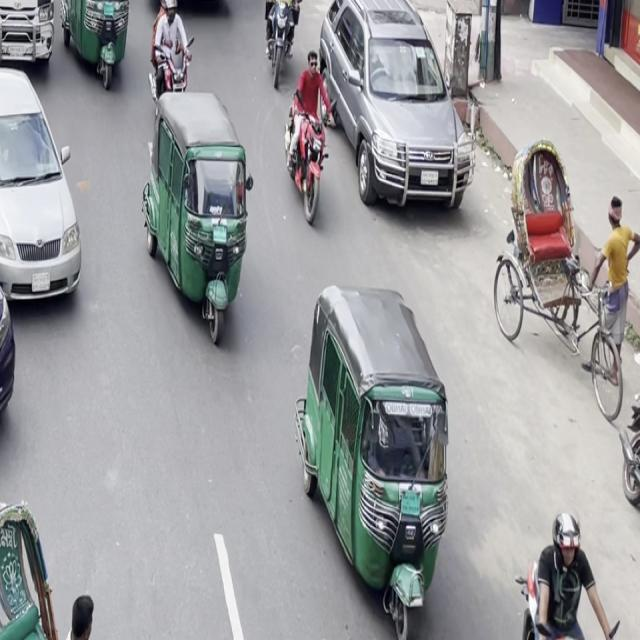car: (314, 0, 479, 227), (0, 49, 94, 319), (0, 102, 28, 470), (0, 0, 63, 76)
motorbike: (282, 41, 336, 231), (145, 0, 197, 118), (259, 0, 307, 91)
rickshaw: (285, 269, 468, 625), (136, 76, 264, 352), (58, 0, 136, 101)
